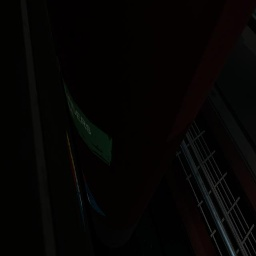NitrogenTank ,: (46, 0, 256, 248)
